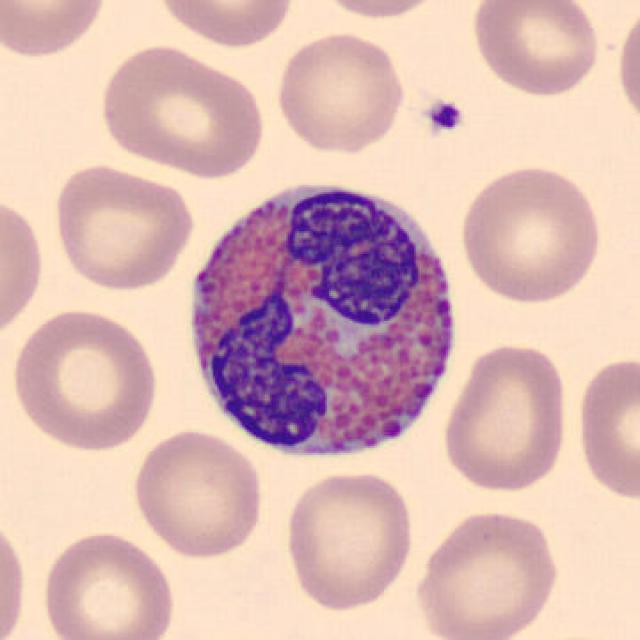Eosinophil: (176, 162, 471, 474)
Platelets: (422, 97, 468, 136)
RBC: (94, 39, 268, 180), (7, 305, 162, 453), (455, 160, 605, 307), (439, 340, 573, 496), (411, 504, 564, 640), (279, 466, 418, 614), (48, 160, 197, 292), (128, 426, 268, 560), (272, 28, 409, 155), (38, 527, 180, 640), (468, 0, 604, 99), (572, 351, 640, 504), (0, 188, 48, 346), (151, 0, 298, 49), (2, 0, 112, 62), (0, 509, 32, 640), (613, 2, 640, 136), (306, 0, 453, 21)
